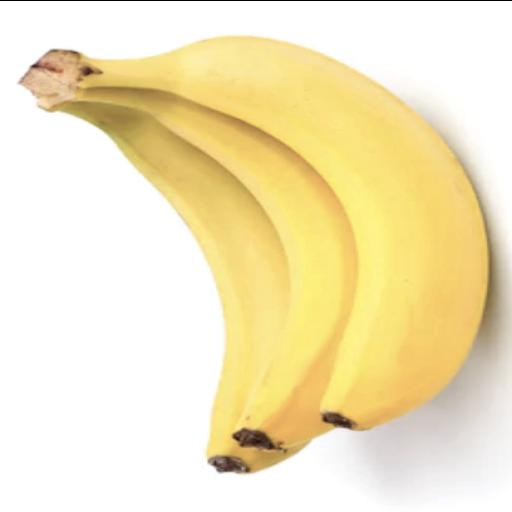banana: (22, 36, 488, 429), (78, 87, 356, 448), (62, 102, 303, 473)
